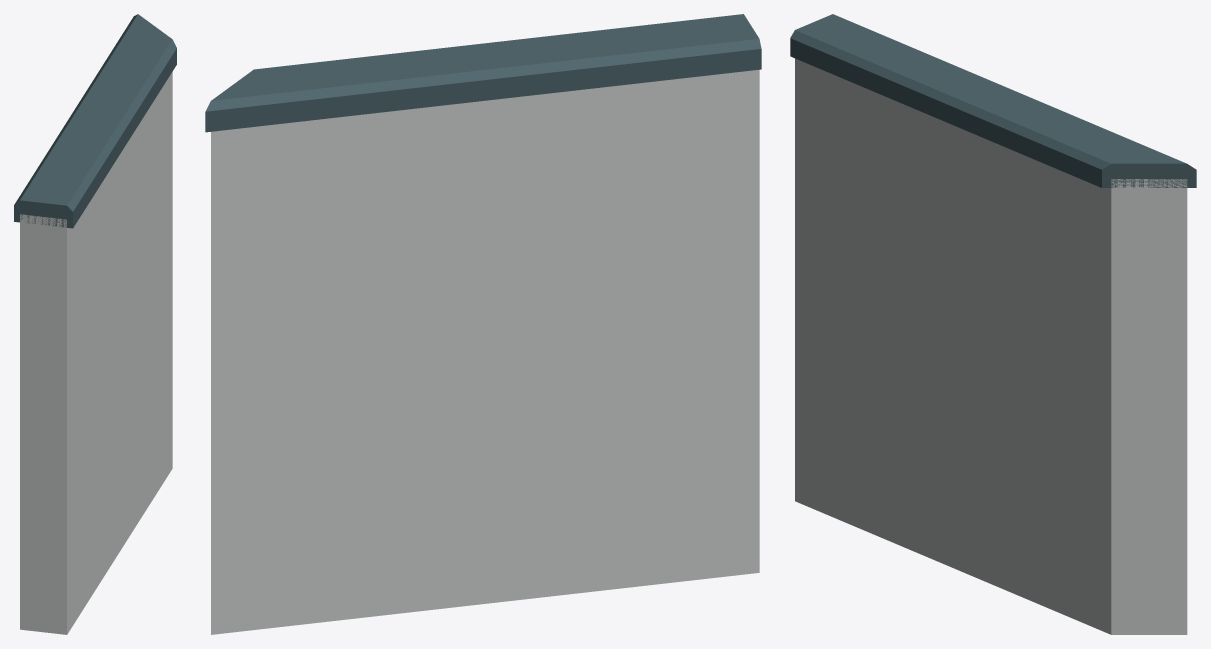
Rendered from halfwall_45_port_miter_7071_-7071_0_-14142.glb.
3 renders of one model, left to right at view 1: azimuth 30°, elevation 25°; view 2: azimuth 150°, elevation 25°; view 3: azimuth 270°, elevation 25°, orthographic. The views are drawn at different scales.
Visible parts, largest first — view 1: Seamless solid halfwall.038, Seamless top cap.038; view 2: Seamless solid halfwall.038, Seamless top cap.038; view 3: Seamless solid halfwall.038, Seamless top cap.038.
Part boxes in pixels (x1,y1,x2,y2): Seamless solid halfwall.038: [20, 72, 172, 634]; Seamless top cap.038: [14, 14, 176, 228]; Seamless solid halfwall.038: [211, 69, 759, 634]; Seamless top cap.038: [205, 14, 761, 132]; Seamless solid halfwall.038: [795, 58, 1187, 634]; Seamless top cap.038: [790, 14, 1196, 187].
Size of the model in its own units: 0.5354 by 0.775 by 0.6061.
